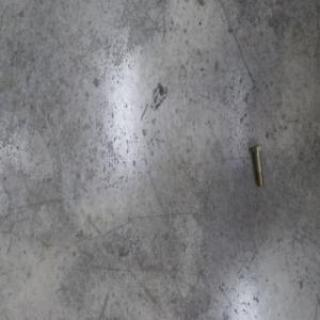Bolttrack_idkeyframe: (249, 142, 263, 188)
